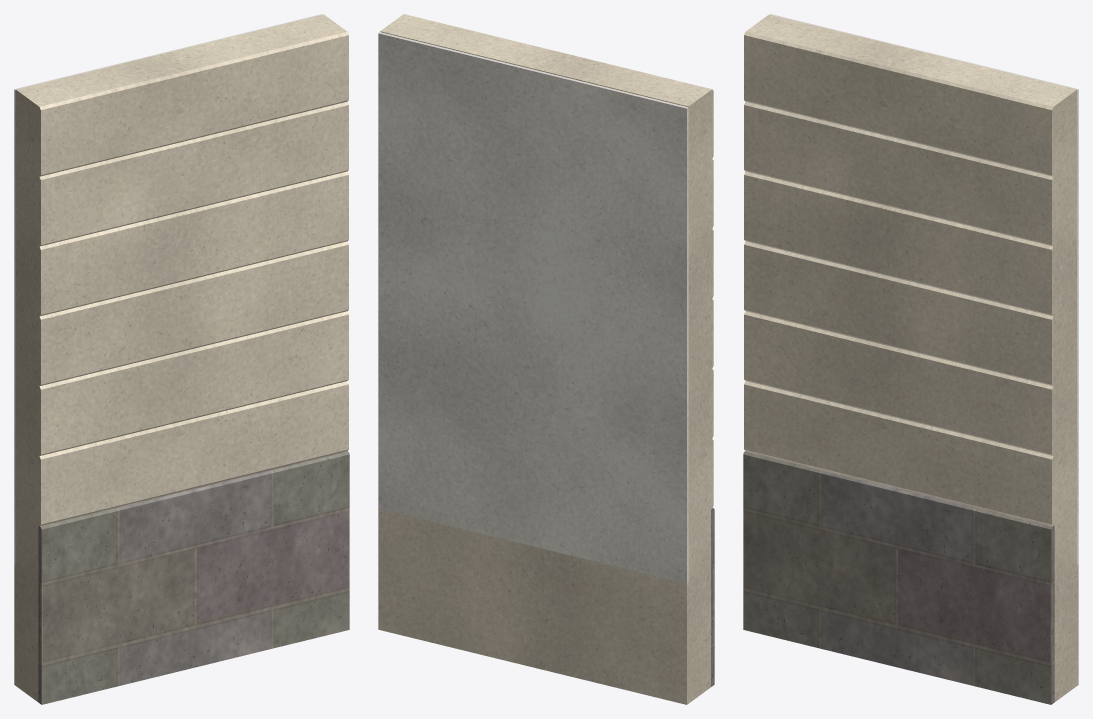
The model's file is g_wall_plain.glb.
3 views of the same model, side by side, from view 1: azimuth 30°, elevation 25°; view 2: azimuth 150°, elevation 25°; view 3: azimuth 330°, elevation 25° (orthographic).
Parts seen in each view (by area): view 1: g_wall_plain_rust, g_wall_plain_plinth, g_wall_plain_plaster; view 2: g_wall_plain_plaster, g_wall_plain_rust, g_wall_plain_plinth; view 3: g_wall_plain_rust, g_wall_plain_plinth, g_wall_plain_plaster.
Part boxes in pixels (box(x1,y1,x2,y2)): g_wall_plain_rust: box(14, 14, 348, 701); g_wall_plain_plinth: box(38, 451, 349, 704); g_wall_plain_plaster: box(14, 14, 322, 564); g_wall_plain_plaster: box(378, 32, 688, 583); g_wall_plain_rust: box(378, 14, 713, 704); g_wall_plain_plinth: box(711, 508, 714, 686); g_wall_plain_rust: box(744, 14, 1078, 701); g_wall_plain_plinth: box(743, 451, 1054, 704); g_wall_plain_plaster: box(770, 14, 1078, 564).
Bounding box in the file's own units: 2 × 3.7 × 0.31.
Materials: 3 (3 with a texture image).
